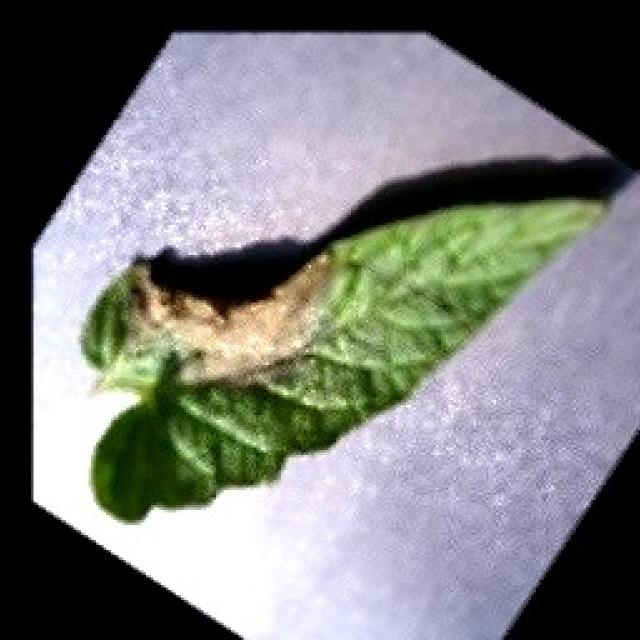leaves: (21, 99, 640, 543)
